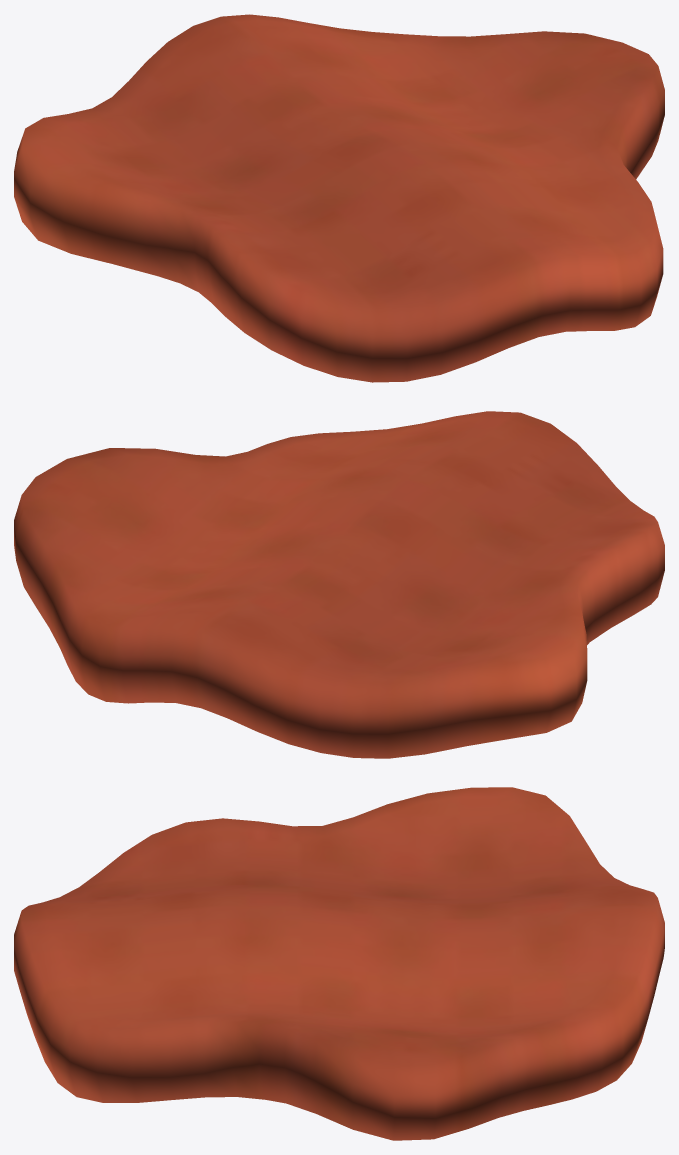
The model's file is gundu_genting.glb.
3 views of the same model, one above another, from view 1: azimuth 30°, elevation 25°; view 2: azimuth 150°, elevation 25°; view 3: azimuth 270°, elevation 25° (orthographic).
Visible parts, largest first — view 1: b_gundu_genting; view 2: b_gundu_genting; view 3: b_gundu_genting.
Part boxes in pixels (bbox=[...]): b_gundu_genting: bbox=[14, 14, 664, 382]; b_gundu_genting: bbox=[14, 411, 664, 758]; b_gundu_genting: bbox=[14, 787, 664, 1140].
Size of the model in its own units: 0.0683 by 0.0141 by 0.0658.
1 material, 1 textured.
